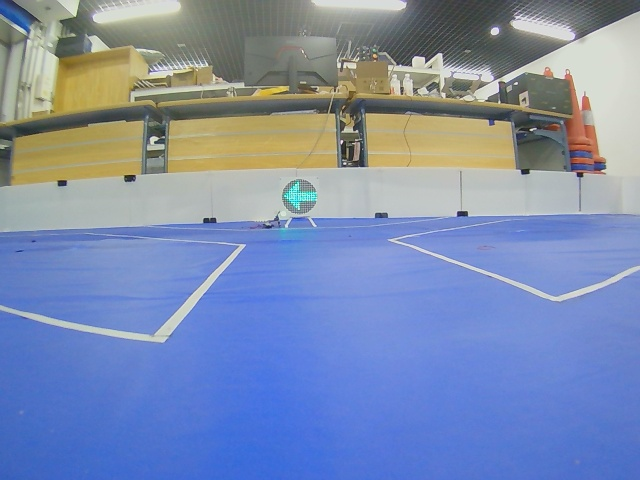left_green: (282, 179, 318, 215)
